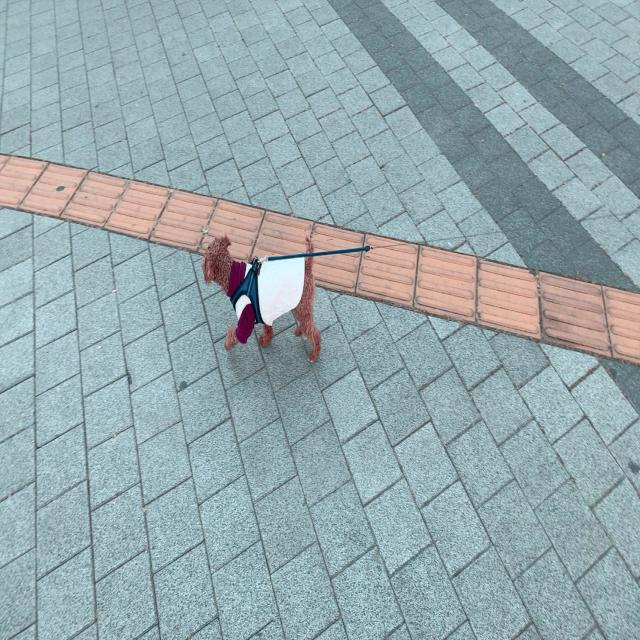Dog: (201, 231, 322, 366)
